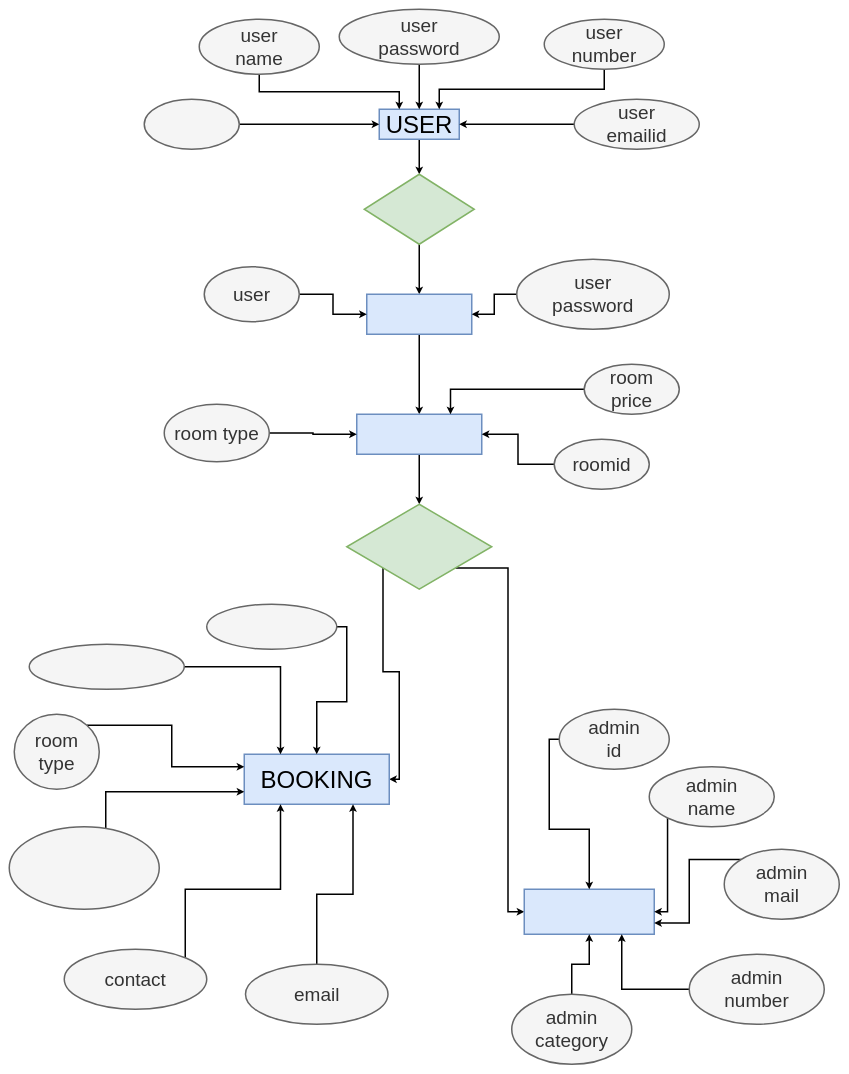
The diagram is 849 pixels wide and 1074 high, and some of its shapes have lost their labels. Here are the shapes that lost their labels. From the top down, the centre of each, then its label:
At point 191,124: "user id".
At point 419,209: "has".
At point 419,314: "LOGIN".
At point 419,434: "ROOM".
At point 419,546: "manage".
At point 271,626: "bookingid".
At point 106,666: "rooms".
At point 84,868: "Check in/out time".
At point 589,911: "ADMIN".
